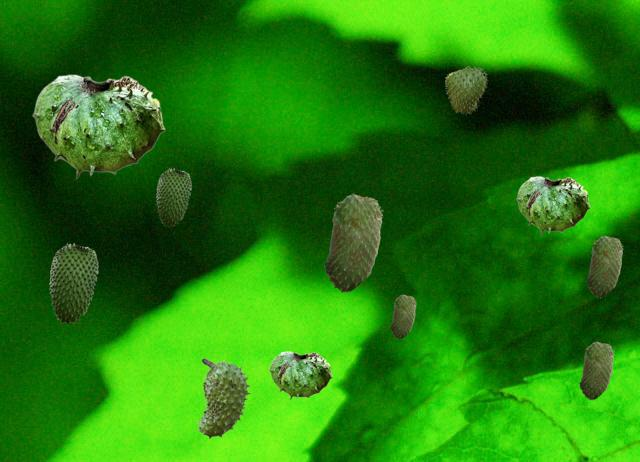guyabano: (32, 74, 164, 178), (324, 193, 382, 292), (196, 358, 251, 439), (516, 176, 589, 234), (49, 243, 97, 324), (269, 351, 331, 399), (586, 235, 622, 297), (445, 66, 487, 114), (156, 168, 190, 226), (579, 341, 613, 399), (390, 294, 415, 338)
